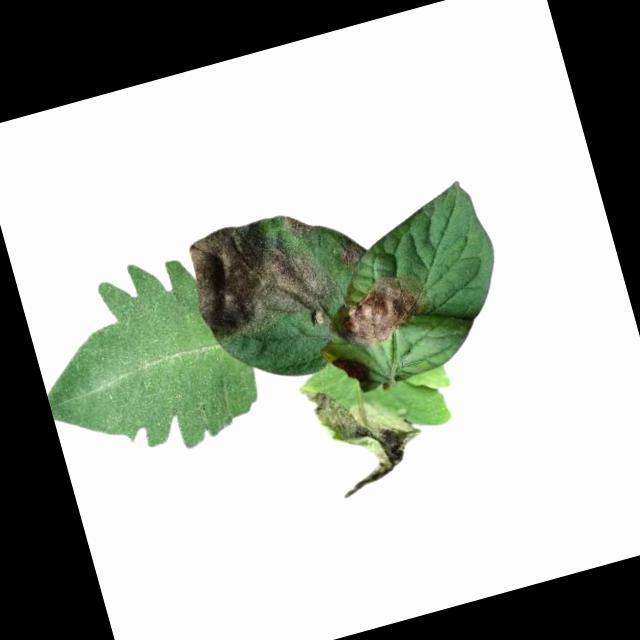Late_blight: (179, 200, 345, 347), (306, 366, 434, 500), (333, 272, 431, 352), (282, 208, 320, 240), (333, 235, 367, 270), (306, 306, 330, 329)
